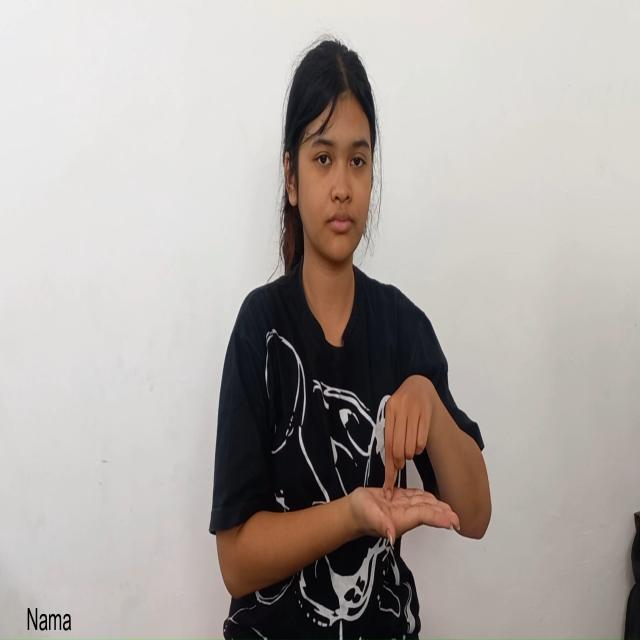Nama -BISINDO-: (340, 368, 466, 571)
